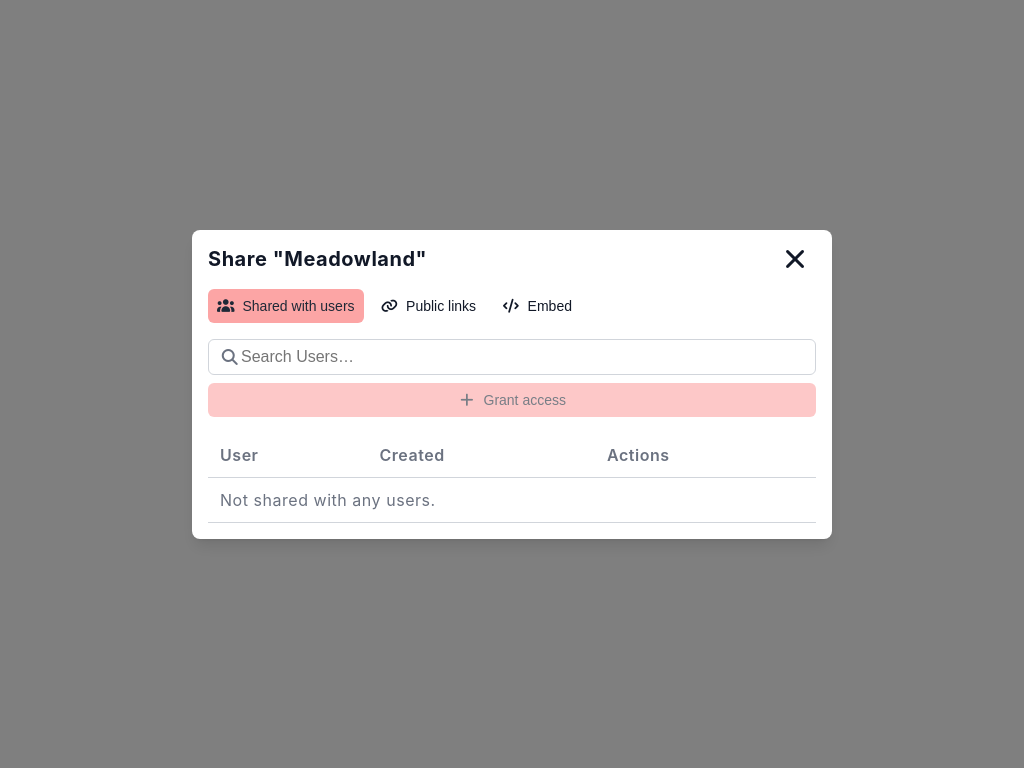
Test: ShareDialog › surfaces a public URL revoke error inline
Click the button "Public links" at (428, 306), box left=372, top=288, right=485, bottom=322
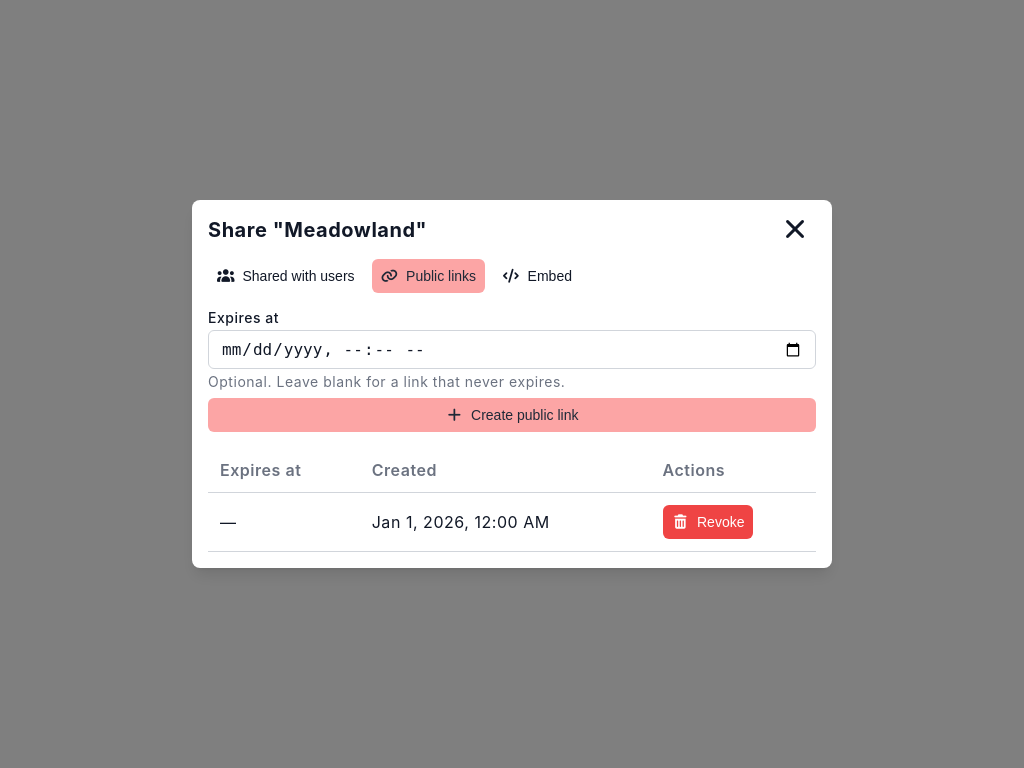
Expected: the button "Revoke" is shown
Click the button "Revoke" at (708, 522), box left=662, top=505, right=754, bottom=539
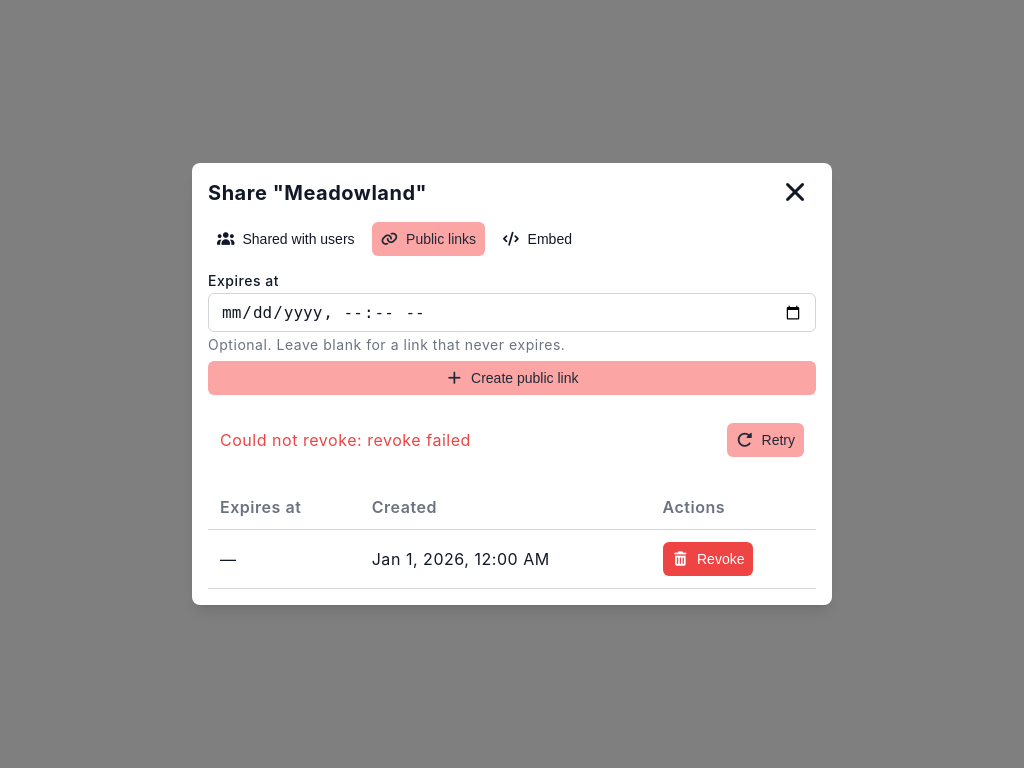
Expected: the text "revoke failed" is shown, left=220, top=430, right=471, bottom=450
